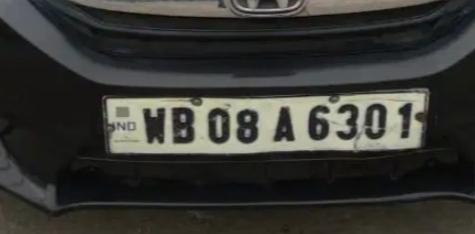0: (363, 97, 388, 139), (207, 106, 232, 147)
1: (394, 98, 417, 144)
3: (333, 100, 360, 143)
6: (305, 98, 331, 145)
8: (232, 103, 265, 148)
A: (271, 101, 299, 147)
B: (168, 105, 201, 149)
W: (139, 103, 168, 145)
